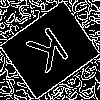K: (24, 25, 77, 82)
